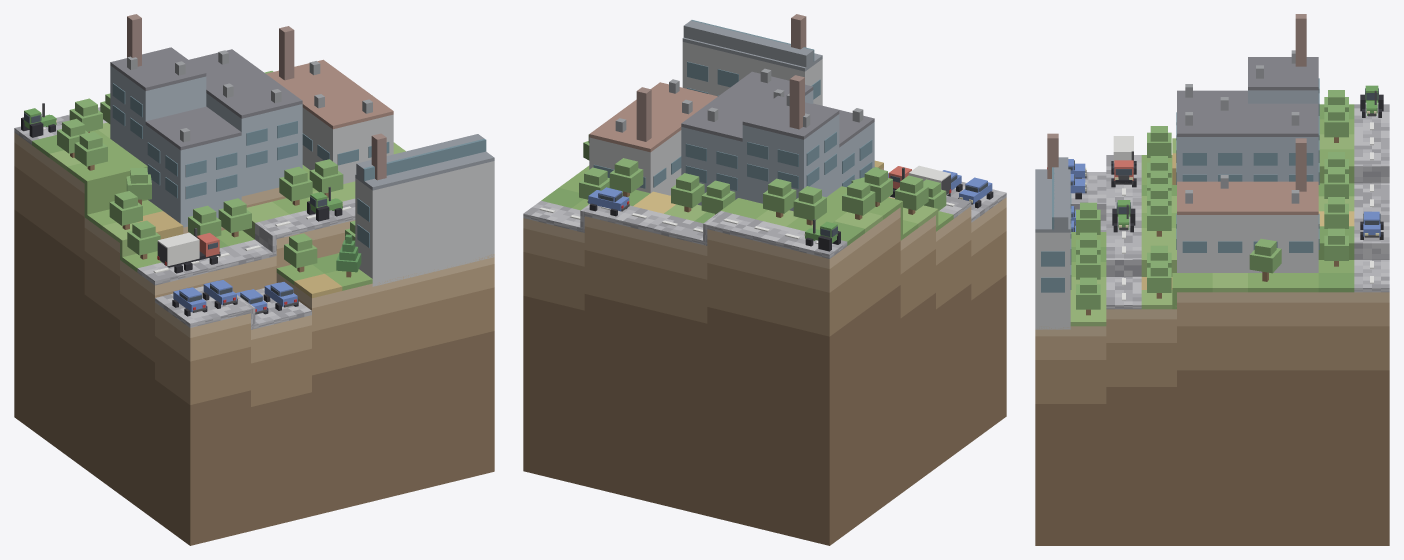
File: block_11_permeable_30.glb
3 views of the same model, side by side, from view 1: azimuth 30°, elevation 25°; view 2: azimuth 150°, elevation 25°; view 3: azimuth 270°, elevation 25° (orthographic).
Visible parts, largest first — view 1: Patch_LowerLeft_b12_PP, Factories_LowerLeft_b12_PP, Ground_LowerLeft_b12_PP, Roads_LowerLeft_b12_PP, Parking_LowerLeft_b12_PP, Asset_Truck.004_PP, Asset_Tree_Round.040_PP, Asset_Tree_Round.066_PP, Asset_Tree_Round.046_PP, Asset_Tree_Round.053_PP, Asset_Tree_Round.052_PP, Asset_Tree_Round.050_PP (+11 smaller); view 2: Patch_LowerLeft_b12_PP, Factories_LowerLeft_b12_PP, Ground_LowerLeft_b12_PP, Roads_LowerLeft_b12_PP, Asset_Tree_Round.034_PP, Asset_Tree_Round.038_PP, Asset_Tree_Round.030_PP, Asset_Tree_Round.033_PP, Asset_Tree_Round.031_PP, Asset_Tree_Round.046_PP, Asset_Truck.004_PP, Asset_Tree_Round.032_PP (+6 smaller); view 3: Patch_LowerLeft_b12_PP, Factories_LowerLeft_b12_PP, Ground_LowerLeft_b12_PP, Roads_LowerLeft_b12_PP, Asset_Truck.004_PP, Parking_LowerLeft_b12_PP, Asset_Tree_Round.016_PP, Asset_Tree_Round.056_PP, Asset_Tree_Round.035_PP, Asset_Tree_Round.069_PP, Asset_Tree_Round.031_PP, Asset_Tree_Round.054_PP (+8 smaller).
Boxes of the visible parts, left/top/right/bottom form: Patch_LowerLeft_b12_PP: left=14, top=132, right=494, bottom=545; Factories_LowerLeft_b12_PP: left=110, top=14, right=494, bottom=286; Ground_LowerLeft_b12_PP: left=32, top=122, right=405, bottom=298; Roads_LowerLeft_b12_PP: left=14, top=107, right=355, bottom=285; Parking_LowerLeft_b12_PP: left=155, top=286, right=311, bottom=329; Asset_Truck.004_PP: left=157, top=228, right=220, bottom=273; Asset_Tree_Round.040_PP: left=74, top=131, right=107, bottom=170; Asset_Tree_Round.066_PP: left=284, top=233, right=317, bottom=272; Asset_Tree_Round.046_PP: left=109, top=191, right=142, bottom=229; Asset_Tree_Round.053_PP: left=279, top=166, right=312, bottom=205; Asset_Tree_Round.052_PP: left=218, top=198, right=251, bottom=237; Asset_Tree_Round.050_PP: left=127, top=220, right=160, bottom=259; Patch_LowerLeft_b12_PP: left=523, top=167, right=1006, bottom=545; Factories_LowerLeft_b12_PP: left=589, top=14, right=874, bottom=211; Ground_LowerLeft_b12_PP: left=541, top=160, right=953, bottom=245; Roads_LowerLeft_b12_PP: left=523, top=196, right=971, bottom=258; Asset_Tree_Round.034_PP: left=609, top=158, right=643, bottom=197; Asset_Tree_Round.038_PP: left=842, top=180, right=875, bottom=219; Asset_Tree_Round.030_PP: left=793, top=186, right=826, bottom=225; Asset_Tree_Round.033_PP: left=671, top=173, right=704, bottom=212; Asset_Tree_Round.031_PP: left=763, top=178, right=796, bottom=217; Asset_Tree_Round.046_PP: left=895, top=175, right=928, bottom=214; Asset_Truck.004_PP: left=888, top=165, right=951, bottom=197; Asset_Tree_Round.032_PP: left=701, top=180, right=735, bottom=214; Patch_LowerLeft_b12_PP: left=1035, top=292, right=1389, bottom=545; Factories_LowerLeft_b12_PP: left=1035, top=14, right=1319, bottom=329; Ground_LowerLeft_b12_PP: left=1070, top=104, right=1354, bottom=326; Roads_LowerLeft_b12_PP: left=1106, top=104, right=1389, bottom=309; Asset_Truck.004_PP: left=1111, top=136, right=1136, bottom=187; Parking_LowerLeft_b12_PP: left=1071, top=172, right=1106, bottom=231; Asset_Tree_Round.016_PP: left=1249, top=238, right=1281, bottom=281; Asset_Tree_Round.056_PP: left=1147, top=260, right=1171, bottom=298; Asset_Tree_Round.035_PP: left=1324, top=228, right=1348, bottom=266; Asset_Tree_Round.069_PP: left=1076, top=277, right=1100, bottom=315; Asset_Tree_Round.031_PP: left=1324, top=105, right=1348, bottom=142; Asset_Tree_Round.054_PP: left=1147, top=199, right=1171, bottom=236.
Bounding box in the file's own units: 9.52 × 12.34 × 9.5.
